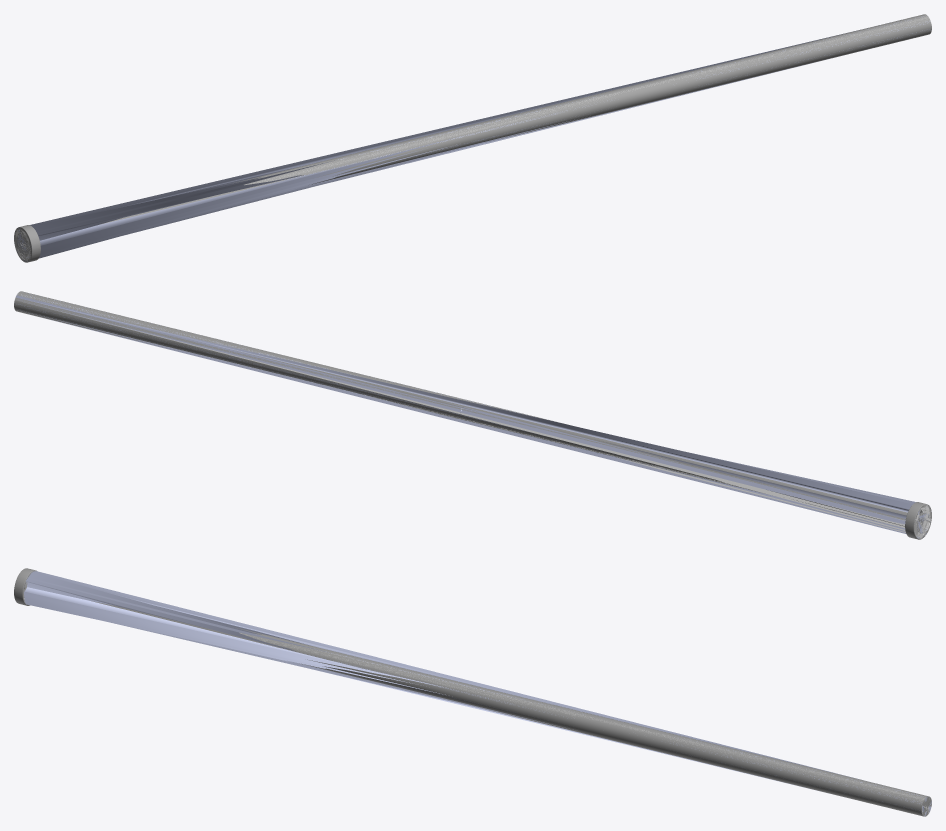
File: arm_link0.dae
3 views of the same model, one above another, from view 1: azimuth 30°, elevation 25°; view 2: azimuth 150°, elevation 25°; view 3: azimuth 330°, elevation 25° (orthographic).
Parts seen in each view (by area): view 1: node0, node2, node1; view 2: node2, node0, node3, node1; view 3: node0, node2, node1.
Boxes of the visible parts, box(x1,y1,x2,y2) form: node0: box(14, 14, 931, 262); node2: box(14, 16, 931, 261); node1: box(14, 16, 928, 262); node2: box(14, 293, 931, 538); node0: box(14, 291, 931, 539); node3: box(49, 308, 930, 538); node1: box(15, 292, 931, 537); node0: box(14, 568, 931, 816); node2: box(24, 571, 931, 816); node1: box(23, 576, 930, 816).
Size of the model in its own units: 0.4 by 0.014 by 0.014.
